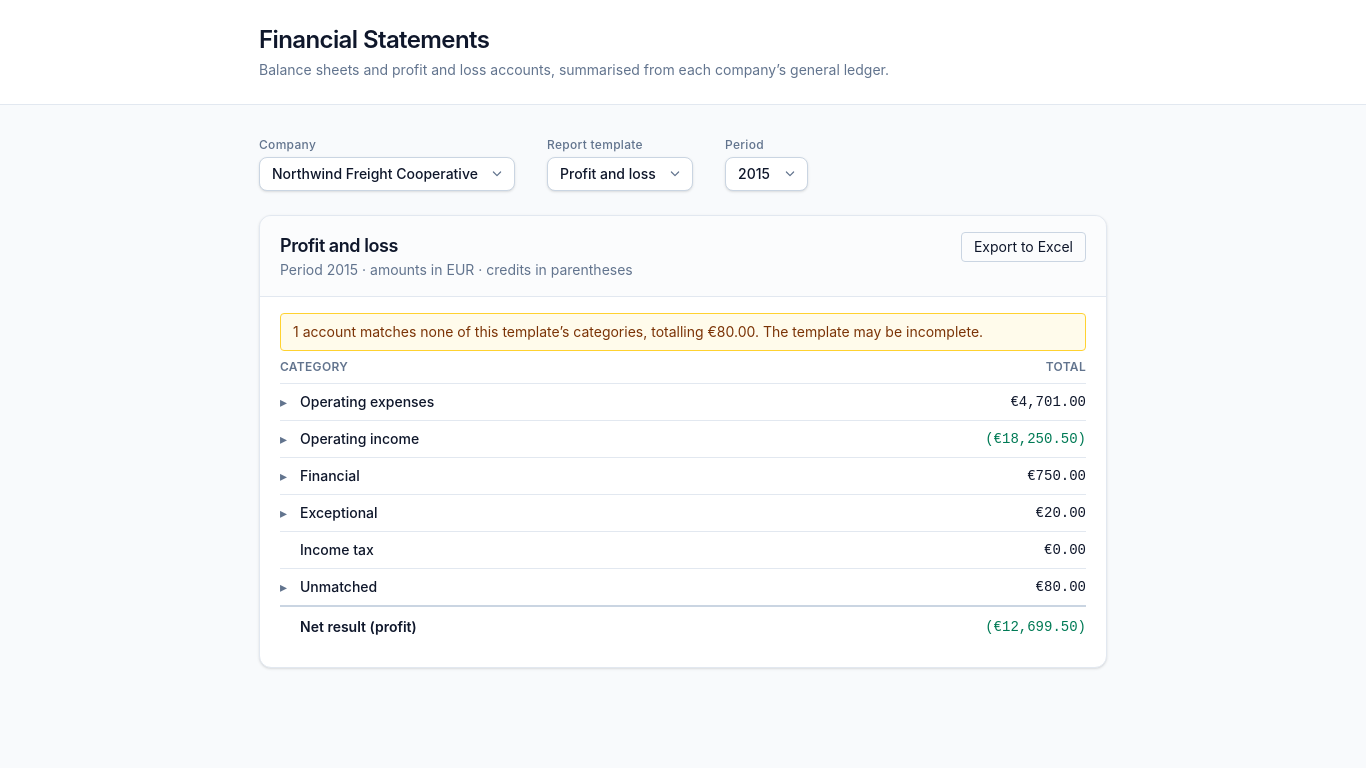
Test: changing ReportTemplate keeps the Period, even when it is not the latest
Step 1. Select "Balance sheet" in the dropdown labelled "Report template" → coordinates (620, 174), box left=547, top=157, right=693, bottom=191
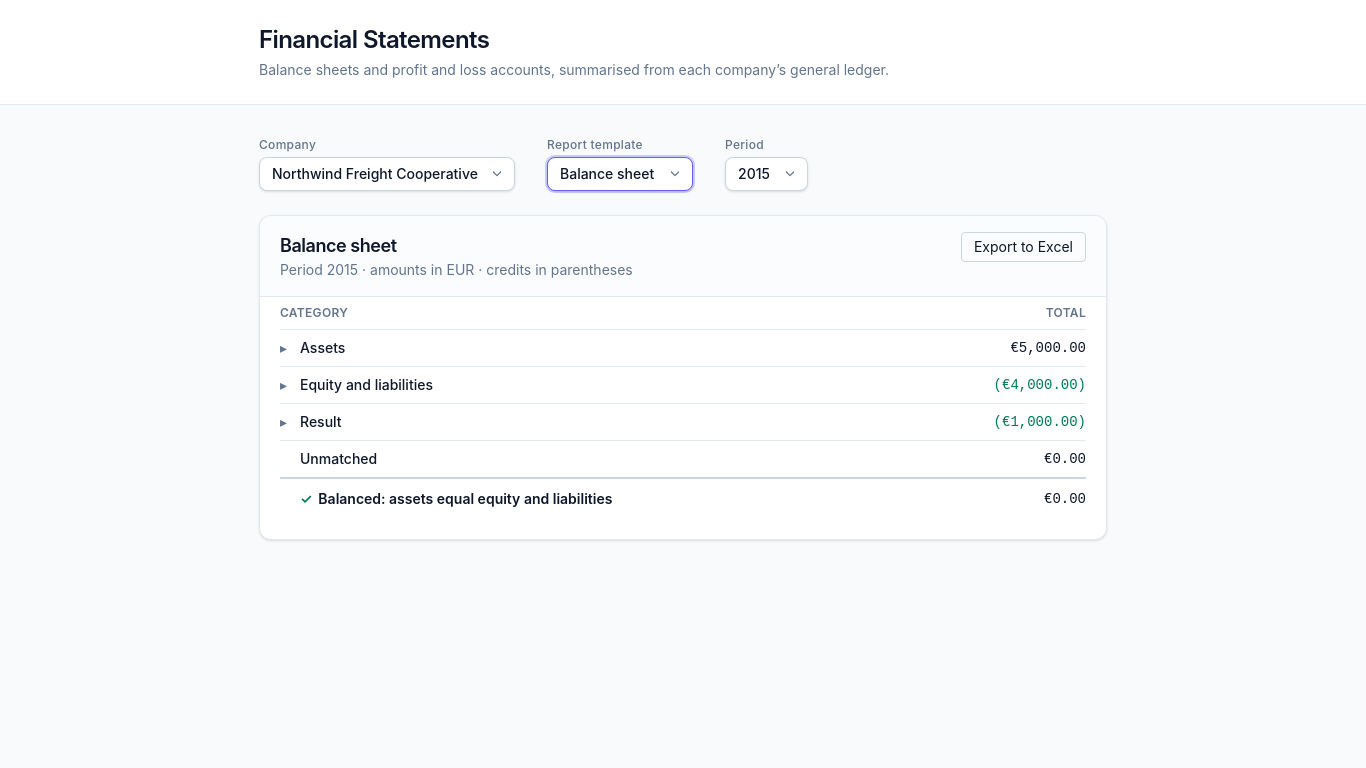
Check: the dropdown labelled "Period" shows "2015", box left=725, top=157, right=808, bottom=191
Check: the row "Assets €5,000.00" is shown, box left=280, top=330, right=1086, bottom=366
